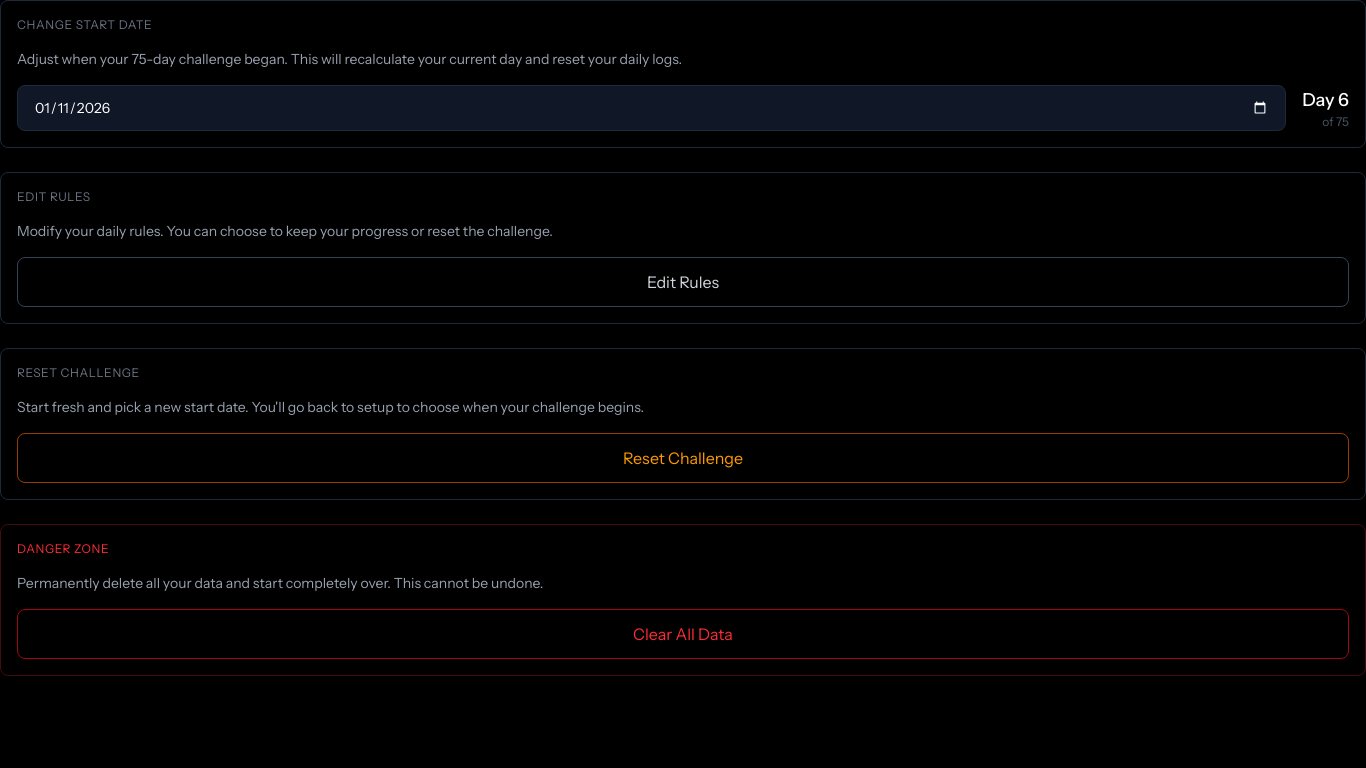
Test: SettingsTab › Clear All Data (Danger Zone) › opens confirmation modal when clear all clicked
Click the button "Clear All Data": (683, 634) [17,609,1349,659]
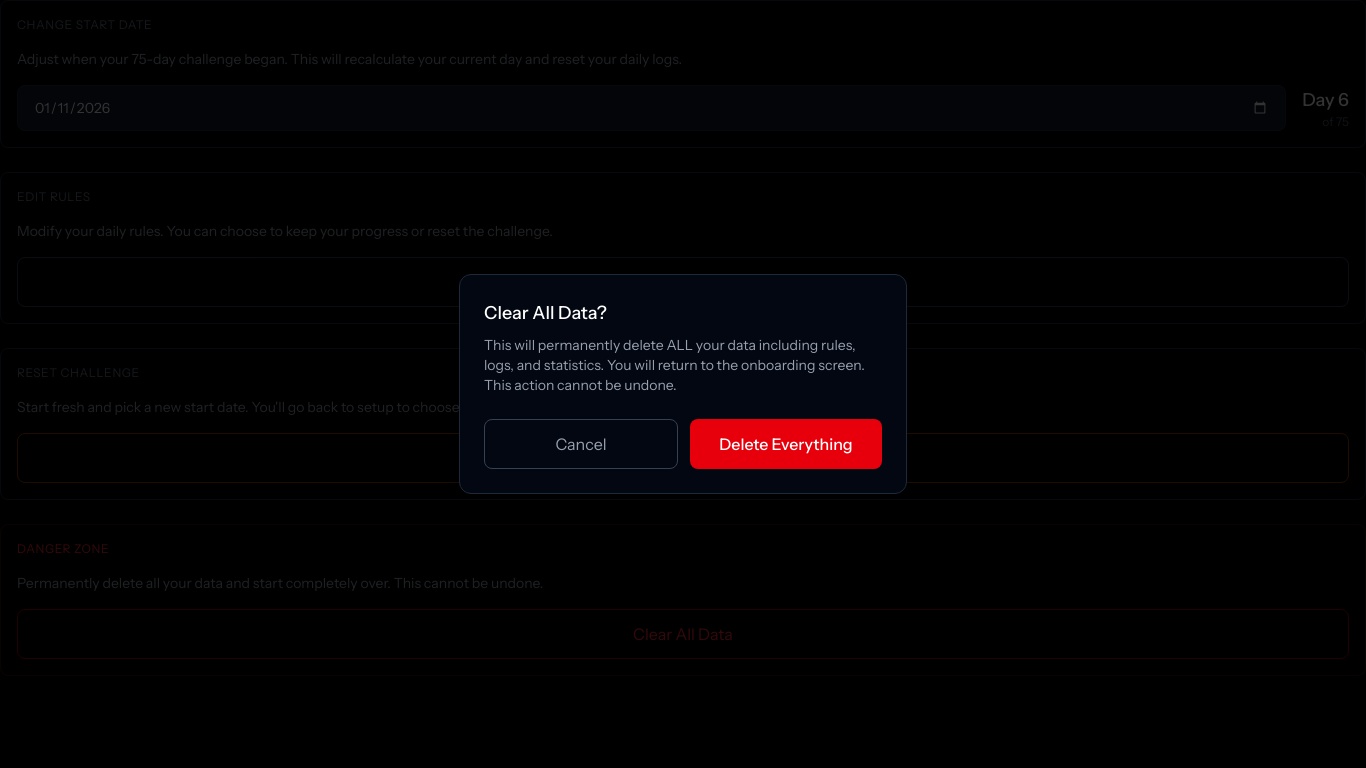
Expected: the heading "Clear All Data?" is shown, [484,302,607,324]
